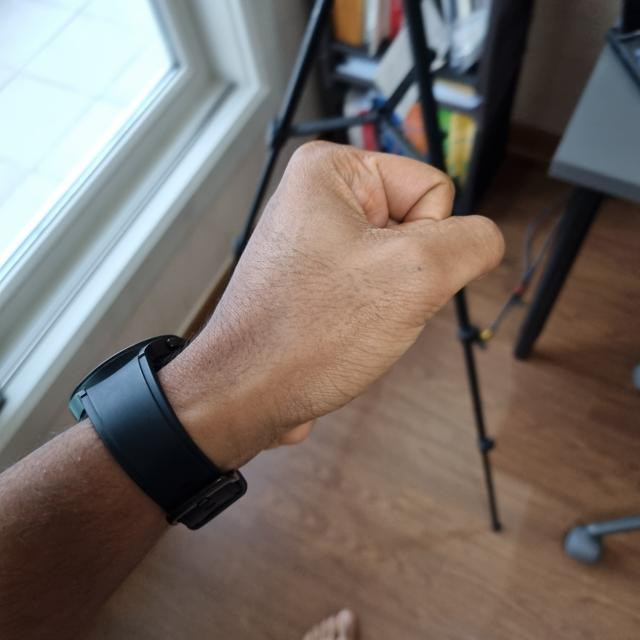Rock: (194, 138, 507, 444)
